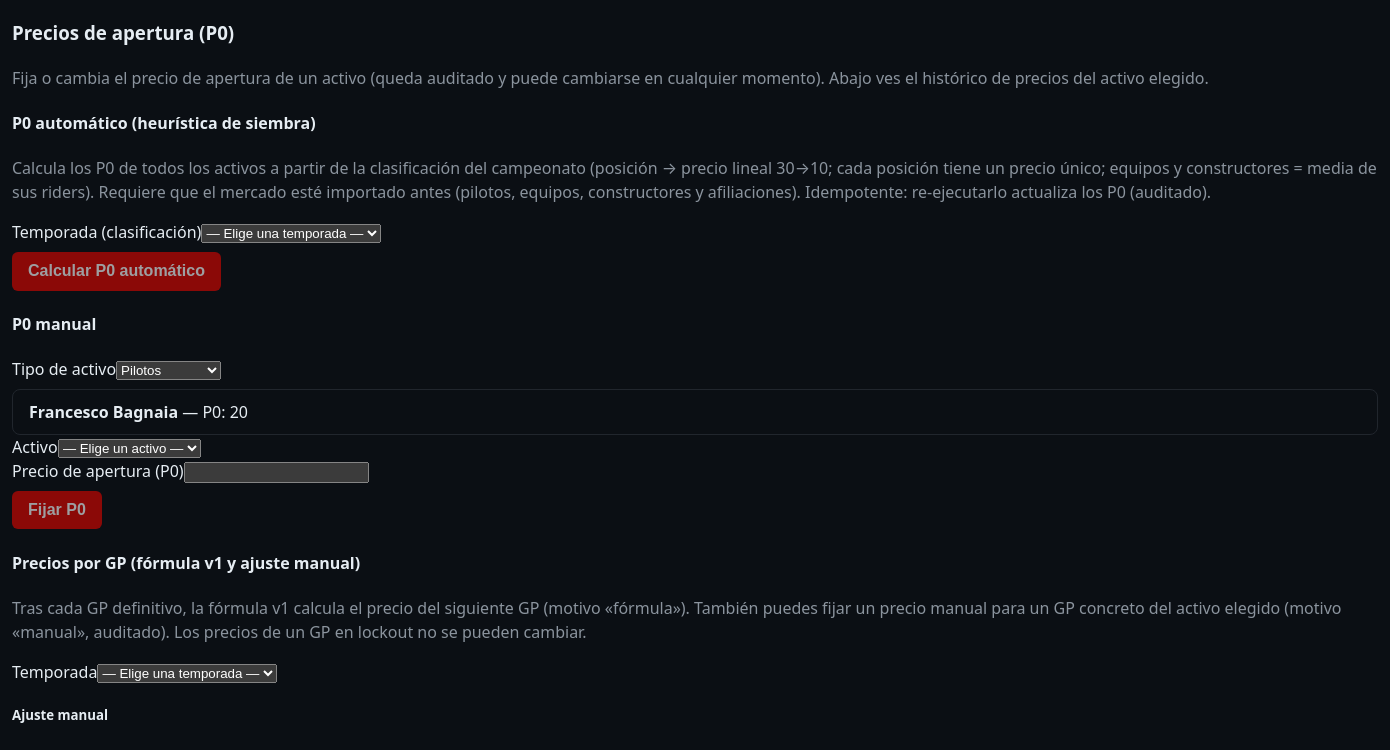
Scenario: PricesPanel › desactiva el botón hasta que hay activo y precio
The width and height of the screenshot is (1390, 750).
Expected: the button "Fijar P0" is disabled, x1=12 y1=490 x2=102 y2=529
# Precio sin activo: sigue desactivado.
In the number field labelled "Precio de apertura (P0)": (276, 472) x1=184 y1=462 x2=369 y2=482, type "25"
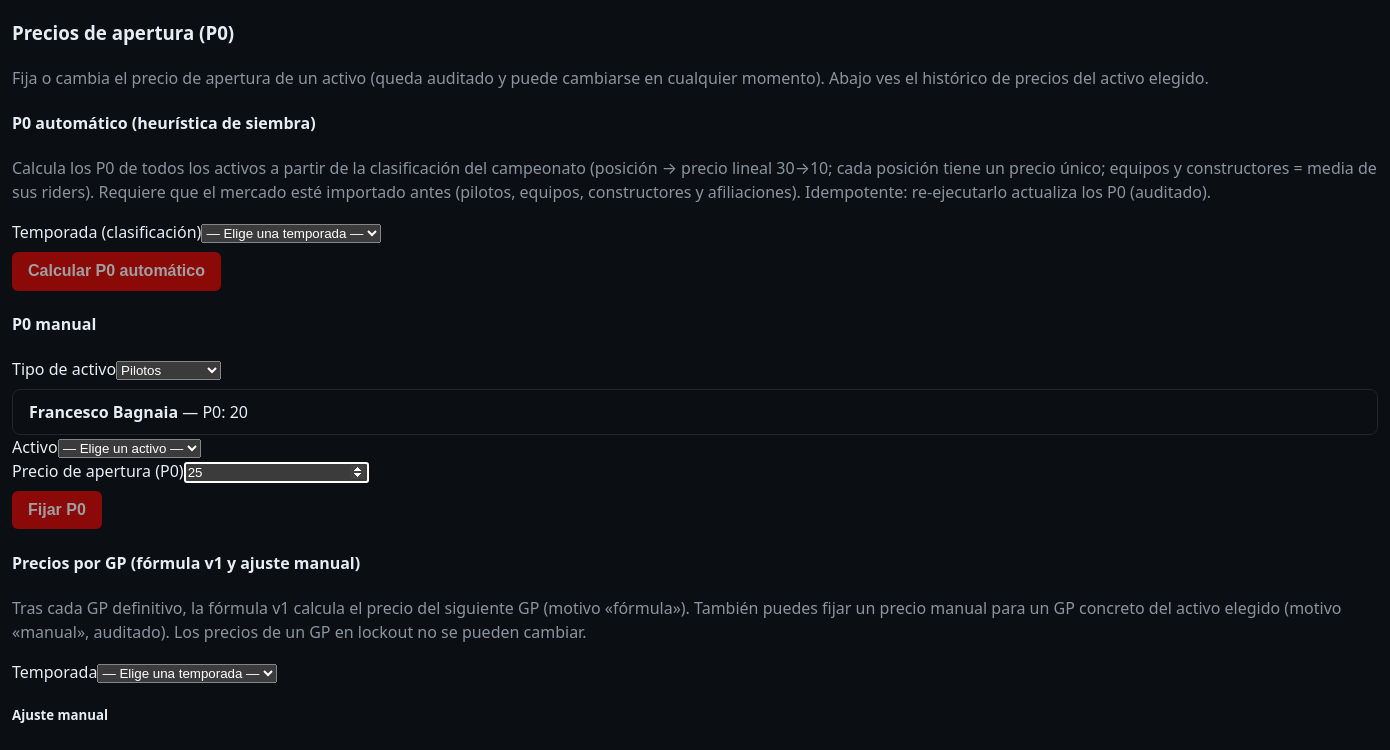
Expected: the button "Fijar P0" is disabled, x1=12 y1=490 x2=102 y2=529
# Con activo y precio: habilitado.
Select "Francesco Bagnaia" in the dropdown labelled "Activo": (129, 448) x1=58 y1=438 x2=201 y2=458
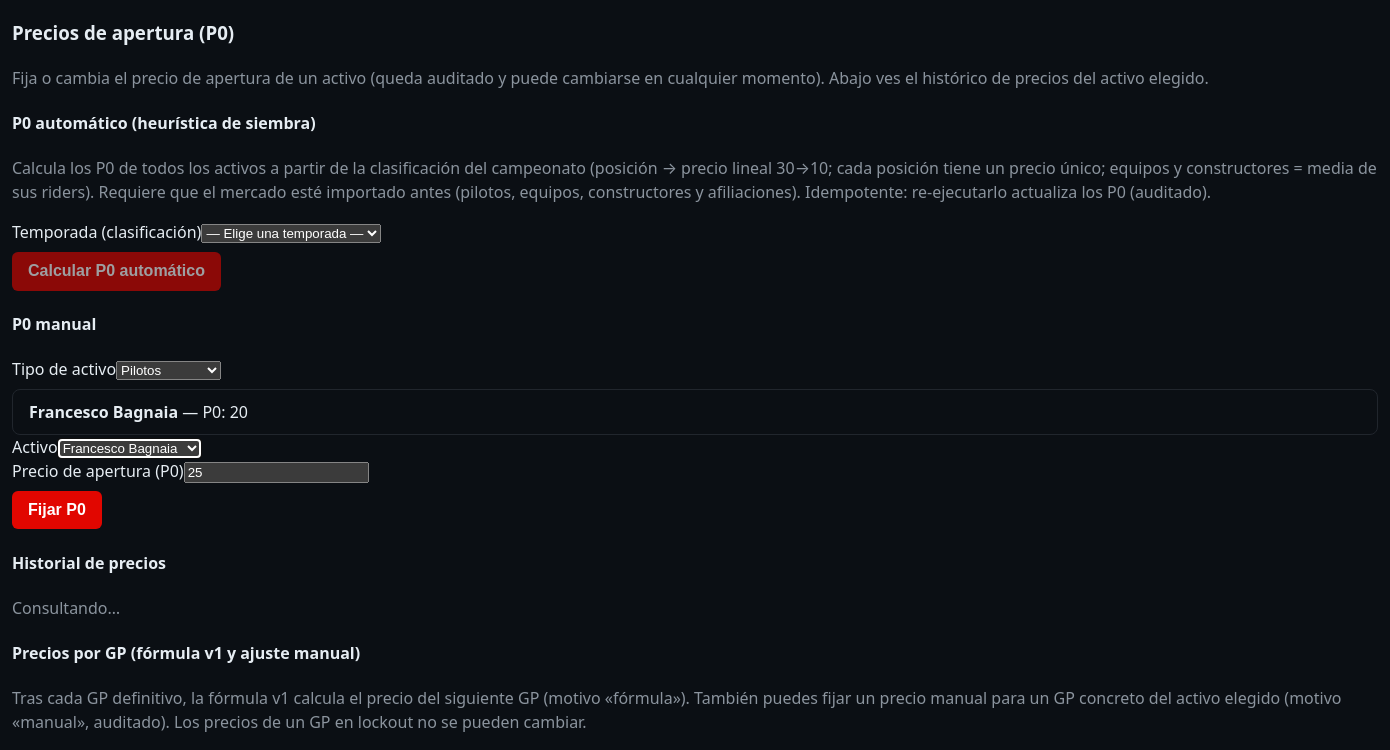
Now the button "Fijar P0" is enabled, box x1=12 y1=490 x2=102 y2=529
